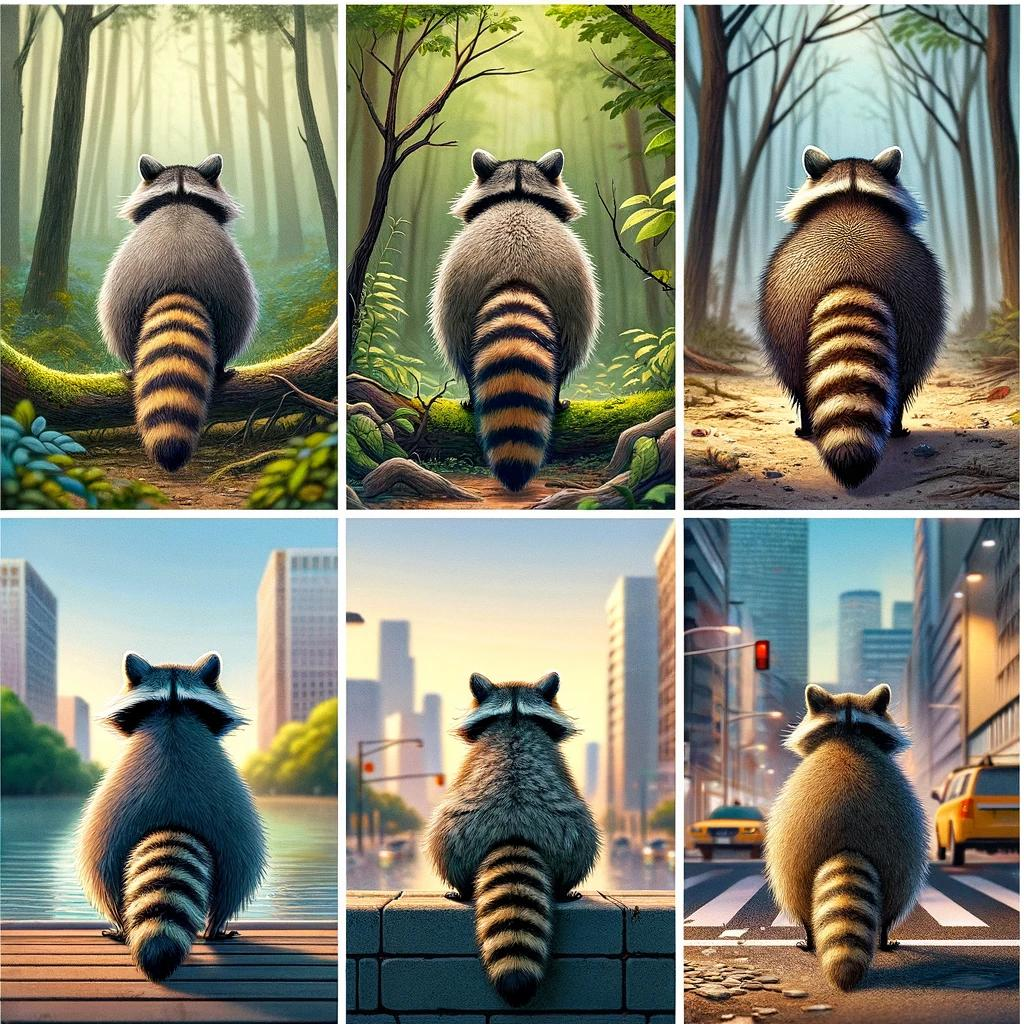raccoon: (53, 632, 285, 1000), (742, 128, 963, 505), (408, 650, 623, 1017), (742, 663, 952, 1008), (423, 140, 608, 500), (87, 148, 268, 482)
